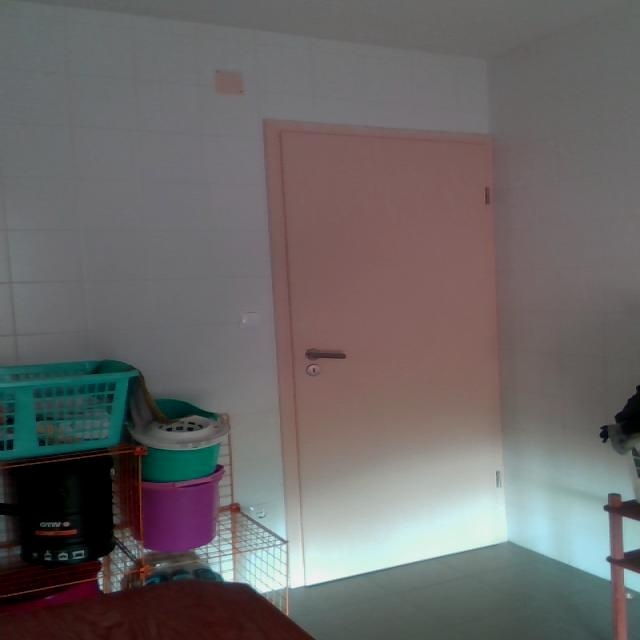door: (249, 118, 529, 593)
